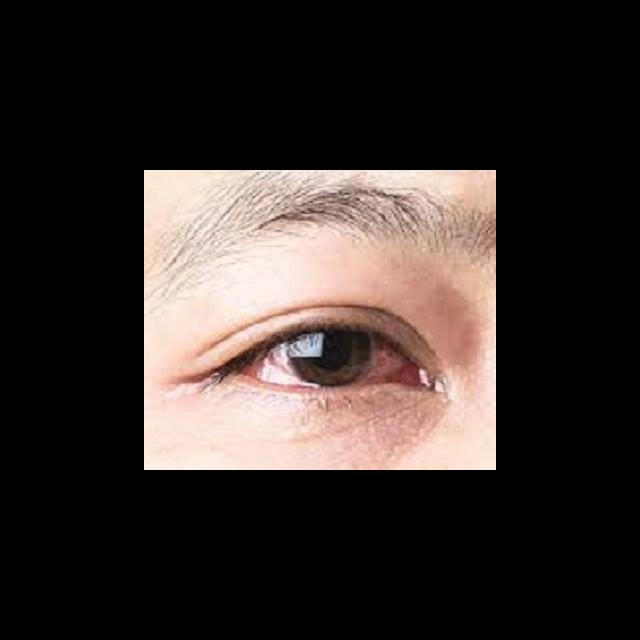eye: (239, 328, 411, 388)
iris: (282, 329, 374, 386)
